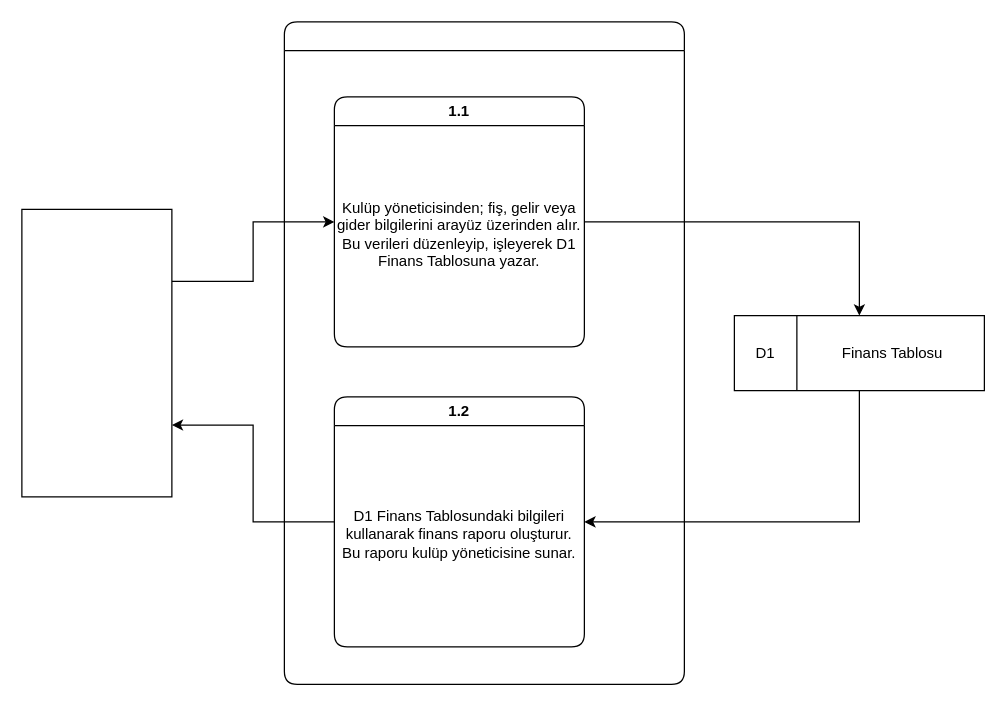
Image size: 1006x706. Some labels were removed from this diagram. The shapes that lost their labels are listed below. From the top down, each one's box as (x1, y1, x2, y2) in pixels, then its label:
(21, 208, 172, 497): Kulüp Yöneticisi
(283, 21, 684, 684): 1. Finans Modülü
